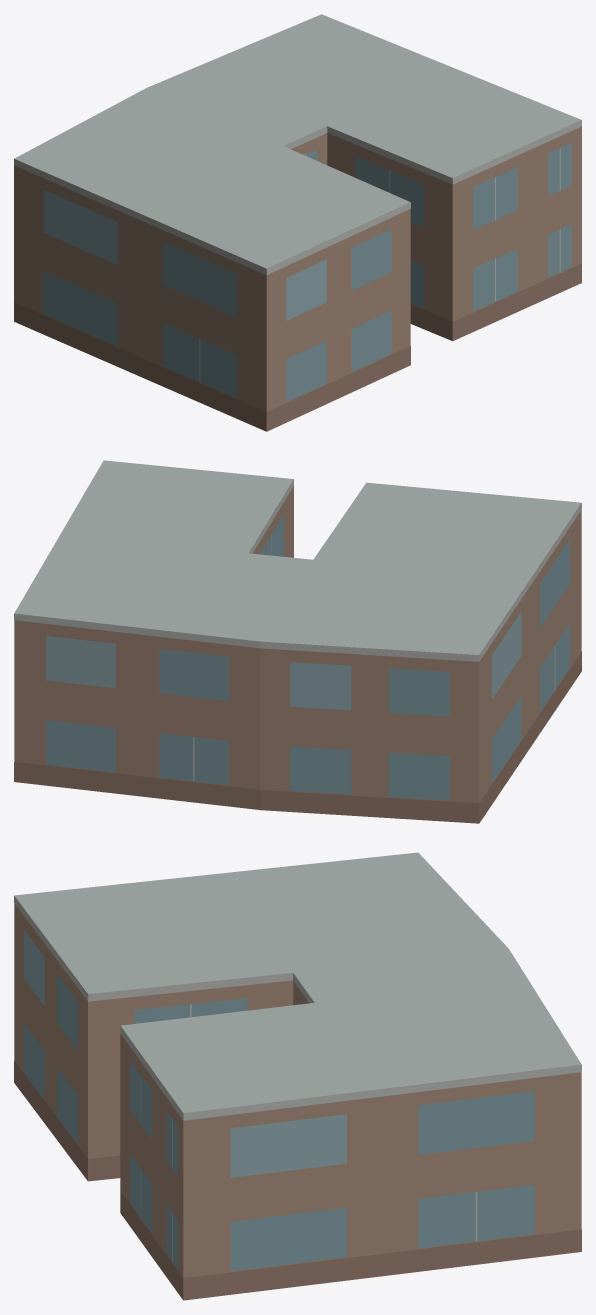
File: survey-upis-32549553.glb
The picture shows the model from 3 angles, top to bottom: view 1: azimuth 30°, elevation 25°; view 2: azimuth 150°, elevation 25°; view 3: azimuth 270°, elevation 25°; orthographic projection. The views are drawn at different scales.
Parts seen in each view (by area): view 1: survey-upis-32549553.tmp; view 2: survey-upis-32549553.tmp; view 3: survey-upis-32549553.tmp.
Boxes of the visible parts, x1,y1,x2,y2 form: survey-upis-32549553.tmp: (14,14,581,431); survey-upis-32549553.tmp: (14,460,581,823); survey-upis-32549553.tmp: (14,852,581,1300).
Size of the model in its own units: 18.25 by 6.1 by 16.78.
